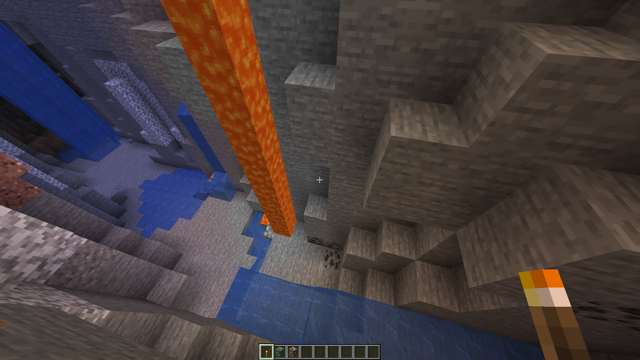coal: (573, 289, 639, 334), (306, 232, 343, 271)
